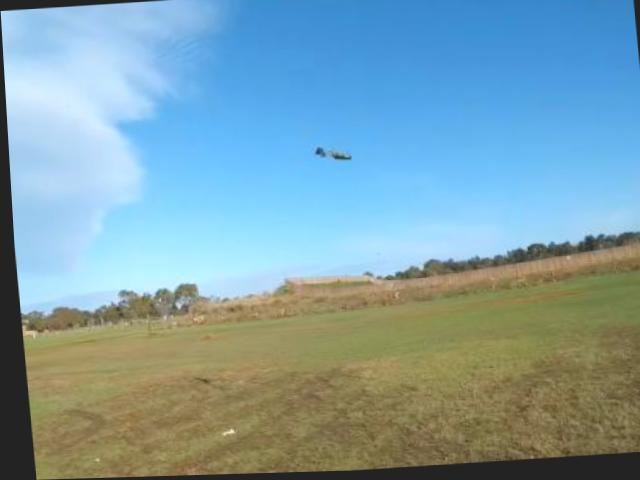uav: (309, 141, 355, 173)
